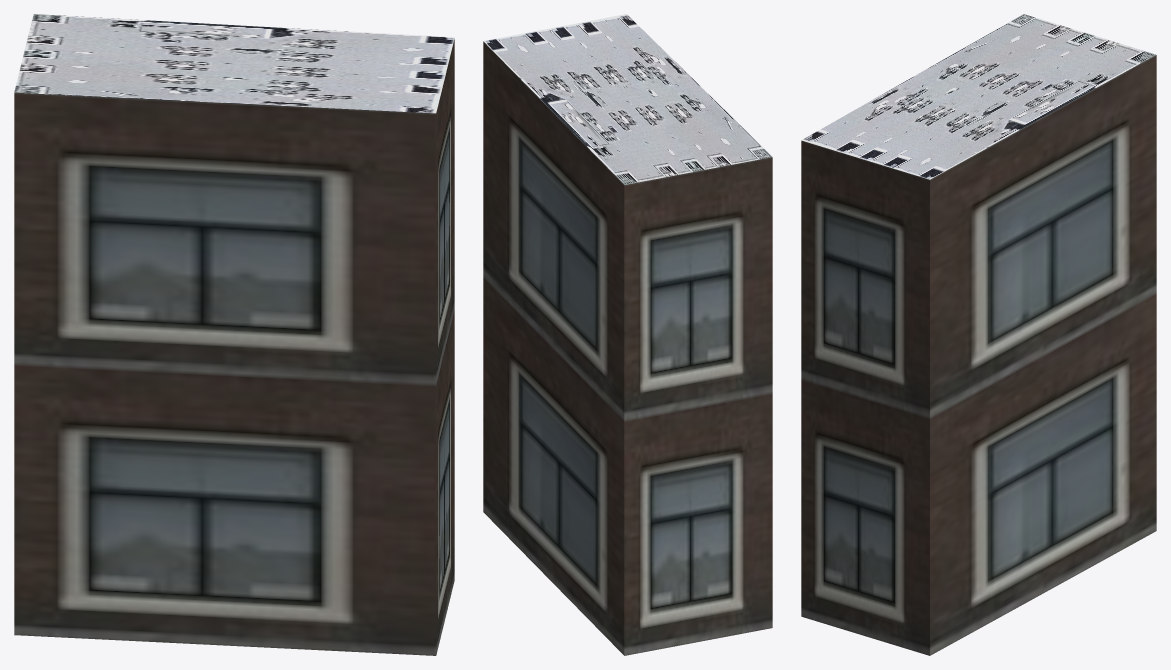
The model's file is ResTex__2979.fbx.
The picture shows the model from 3 angles, left to right: view 1: azimuth 30°, elevation 25°; view 2: azimuth 150°, elevation 25°; view 3: azimuth 270°, elevation 25°; orthographic projection. The views are drawn at different scales.
Visible parts, largest first — view 1: CityEngineMaterial_16_m, CityEngineMaterial_15_m; view 2: CityEngineMaterial_16_m, CityEngineMaterial_15_m; view 3: CityEngineMaterial_16_m, CityEngineMaterial_15_m.
Boxes of the visible parts, box(x1,y1,x2,y2) form: CityEngineMaterial_16_m: box(14, 39, 454, 655); CityEngineMaterial_15_m: box(14, 14, 454, 113); CityEngineMaterial_16_m: box(483, 41, 772, 655); CityEngineMaterial_15_m: box(483, 14, 772, 184); CityEngineMaterial_16_m: box(801, 55, 1156, 655); CityEngineMaterial_15_m: box(801, 14, 1156, 179).
Size of the model in its own units: 4.48 by 6 by 4.06.
2 materials, 2 textured.
